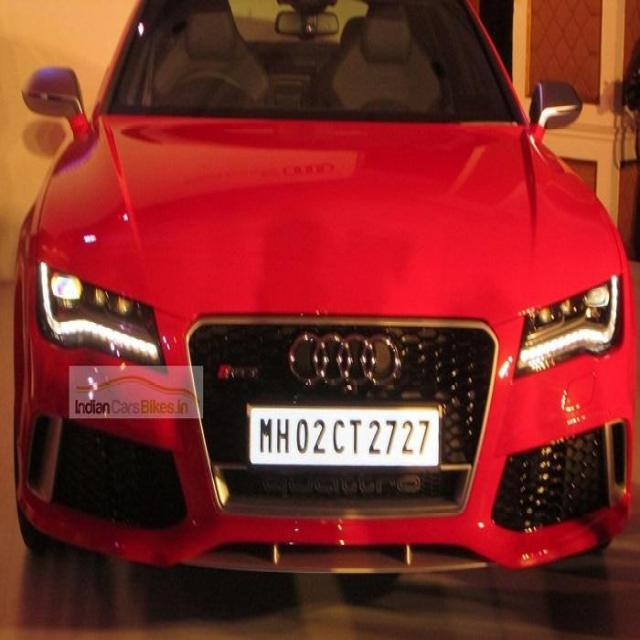number_plate: (247, 403, 441, 467)
